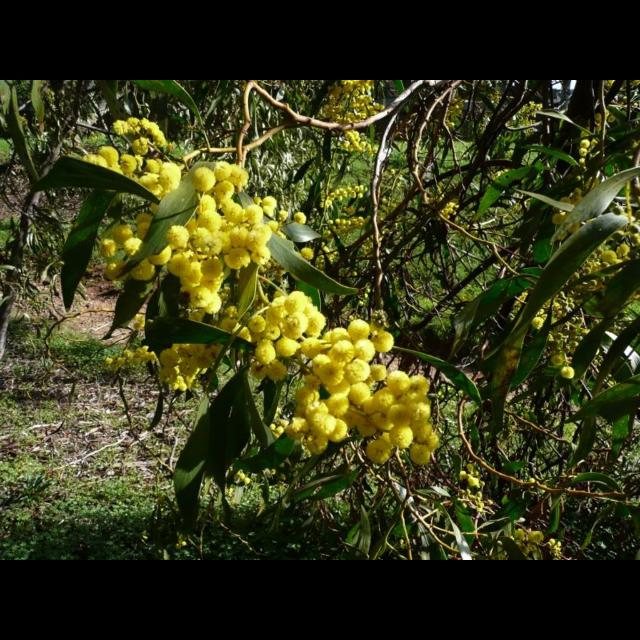Flower: (83, 117, 305, 313), (512, 110, 640, 378), (286, 318, 442, 466), (104, 307, 250, 391), (324, 80, 386, 156), (255, 293, 328, 352), (512, 528, 558, 560), (251, 339, 287, 378), (321, 217, 379, 236), (320, 184, 368, 206), (458, 463, 482, 493), (268, 414, 288, 438), (442, 198, 462, 222), (231, 473, 249, 487), (302, 247, 314, 259)
